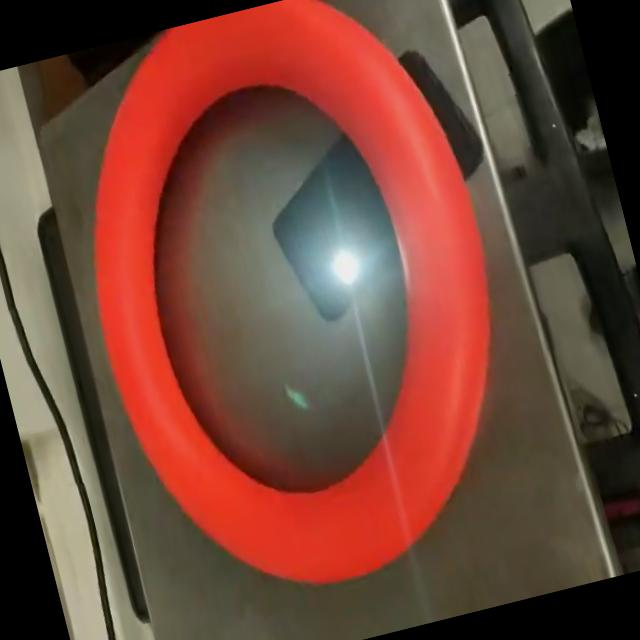note: (31, 0, 558, 631)
